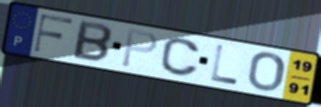B: (70, 18, 114, 64)
C: (159, 36, 202, 79)
F: (31, 12, 75, 54)
L: (209, 44, 241, 87)
O: (246, 51, 287, 93)
P: (119, 28, 160, 70)
